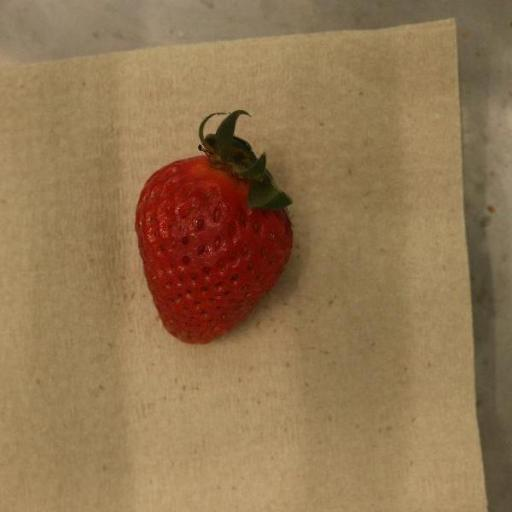Strawberry: (136, 110, 294, 346)
